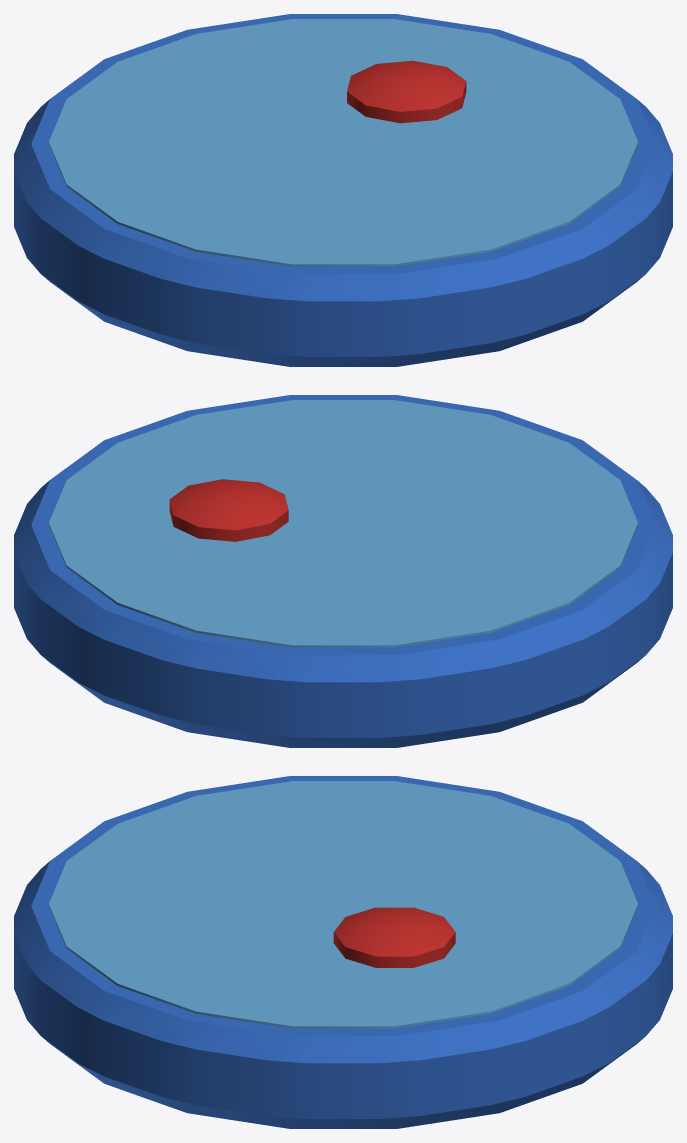
Rendered from Pool.fbx.
3 renders of one model, top to bottom at view 1: azimuth 30°, elevation 25°; view 2: azimuth 150°, elevation 25°; view 3: azimuth 270°, elevation 25°, orthographic.
Parts seen in each view (by area): view 1: Pool; view 2: Pool; view 3: Pool.
Part boxes in pixels (bbox=[...]): Pool: bbox=[14, 14, 672, 366]; Pool: bbox=[14, 395, 672, 747]; Pool: bbox=[14, 776, 672, 1128].
Size of the model in its own units: 2.56 by 0.53 by 2.57.
